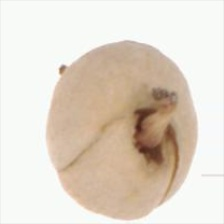L3: (129, 102, 180, 182)
L4: (45, 41, 198, 222)
